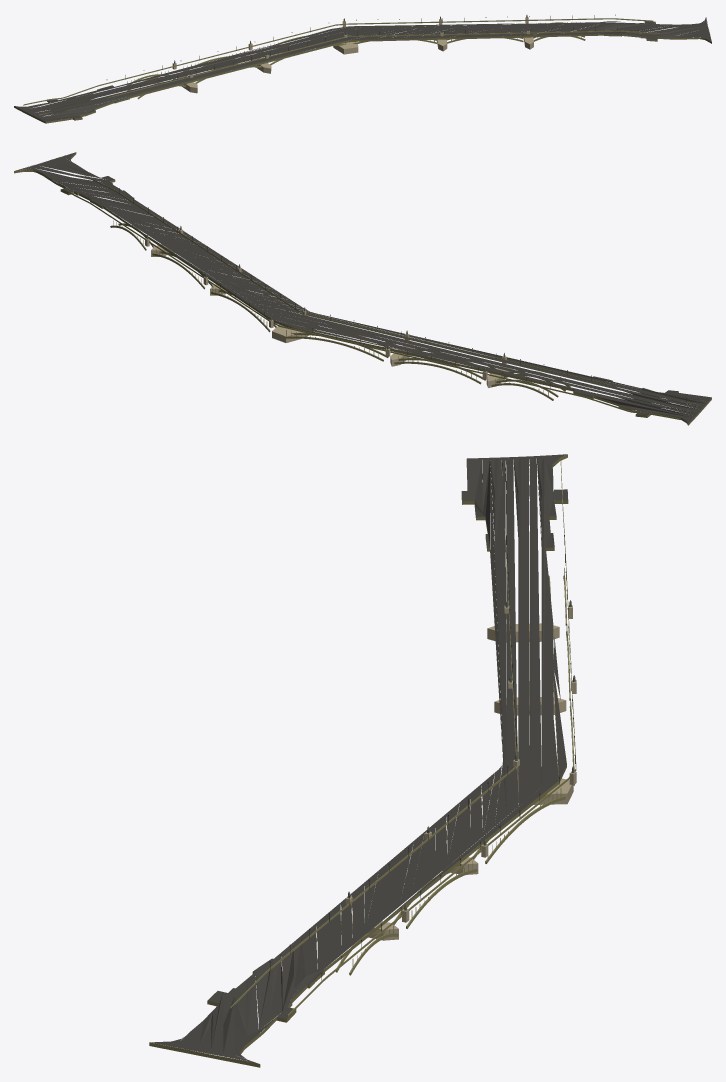
Rendered from margaretBridge.glb.
3 renders of one model, top to bottom at view 1: azimuth 30°, elevation 25°; view 2: azimuth 150°, elevation 25°; view 3: azimuth 270°, elevation 25°, orthographic. The views are drawn at different scales.
Visible parts, largest first — view 1: margaretBridge; view 2: margaretBridge; view 3: margaretBridge.
Boxes of the visible parts, bbox=[...] form: margaretBridge: bbox=[14, 14, 711, 123]; margaretBridge: bbox=[14, 152, 711, 425]; margaretBridge: bbox=[149, 454, 576, 1067].
Size of the model in its own units: 722 by 20.99 by 217.
